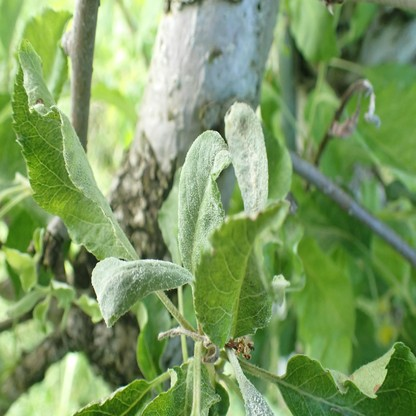frogeye_leaf_spot: (374, 384, 381, 393)
powdery_mildew: (14, 40, 134, 262), (176, 129, 232, 274), (91, 258, 198, 325), (223, 100, 269, 225), (229, 348, 273, 416)
